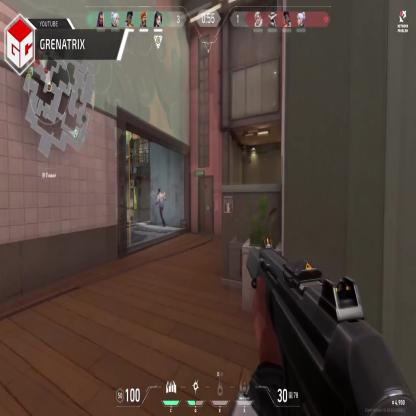enemy: (156, 188, 166, 225)
enemy_head: (157, 188, 161, 195)
